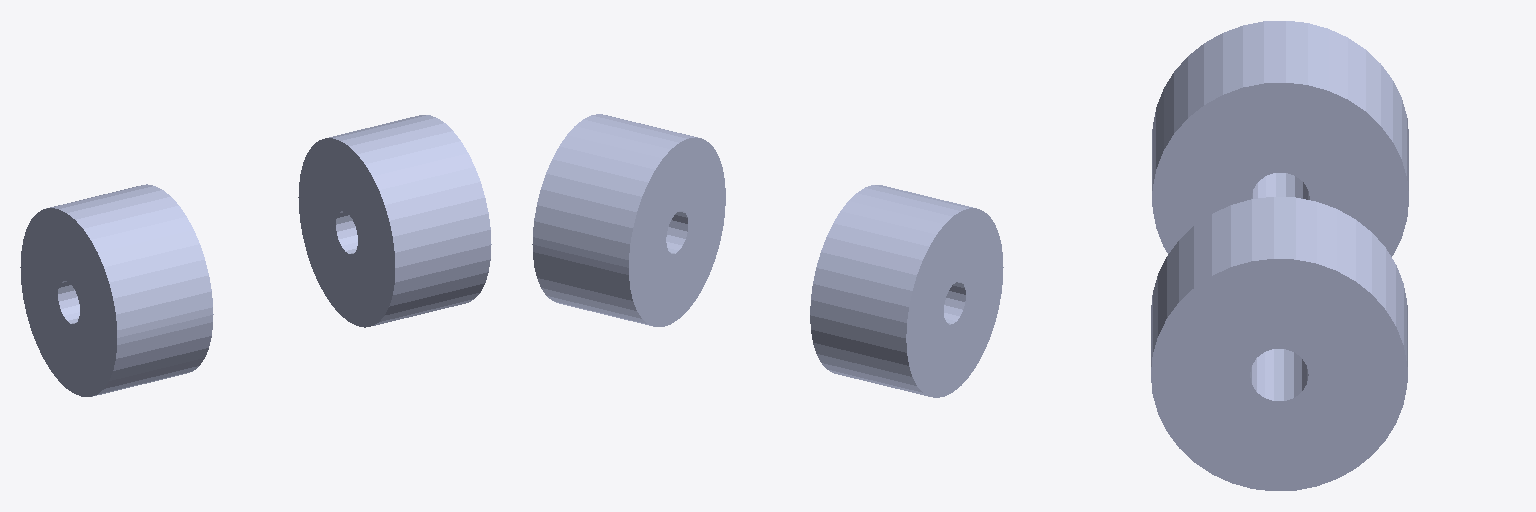
URDF robot description (medibot4):
<?xml version="1.0" encoding="utf-8"?>
<!-- This URDF was automatically created by SolidWorks to URDF Exporter! Originally created by [author] ([email redacted]) 
     Commit Version: 1.6.0-1-g15f4949  Build Version: 1.6.7594.29634
     For more information, please see http://wiki.ros.org/sw_urdf_exporter -->
<robot
  name="medibot4">
  <link
    name="base_link">
    <inertial>
      <origin
        xyz="-0.007005 0.5622 0.057324"
        rpy="0 0 0" />
      <mass
        value="16.587" />
      <inertia
        ixx="0.33575"
        ixy="-0.0016631"
        ixz="0.00045583"
        iyy="0.26398"
        iyz="0.0005298"
        izz="0.47721" />
    </inertial>
    <visual>
      <origin
        xyz="0 0 0"
        rpy="0 0 0" />
      <geometry>
        <mesh
          filename="package://medibot4/meshes/base_link.STL" />
      </geometry>
      <material
        name="">
        <color
          rgba="0.79216 0.81961 0.93333 1" />
      </material>
    </visual>
    <collision>
      <origin
        xyz="0 0 0"
        rpy="0 0 0" />
      <geometry>
        <mesh
          filename="package://medibot4/meshes/base_link.STL" />
      </geometry>
    </collision>
  </link>
  <link
    name="right_wheel">
    <inertial>
      <origin
        xyz="2.7756E-17 0 -0.1"
        rpy="0 0 0" />
      <mass
        value="18.237" />
      <inertia
        ixx="0.20771"
        ixy="8.4374E-34"
        ixz="-6.6177E-18"
        iyy="0.20771"
        iyz="3.0434E-34"
        izz="0.29384" />
    </inertial>
    <visual>
      <origin
        xyz="0 0 0"
        rpy="0 0 0" />
      <geometry>
        <mesh
          filename="package://medibot4/meshes/right_wheel.STL" />
      </geometry>
      <material
        name="">
        <color
          rgba="0.79216 0.81961 0.93333 1" />
      </material>
    </visual>
    <collision>
      <origin
        xyz="0 0 0"
        rpy="0 0 0" />
      <geometry>
        <mesh
          filename="package://medibot4/meshes/right_wheel.STL" />
      </geometry>
    </collision>
  </link>
  <joint
    name="right_wheel_joint"
    type="continuous">
    <origin
      xyz="-0.189 0.18156 -0.069152"
      rpy="-1.5708 0 -1.5708" />
    <parent
      link="base_link" />
    <child
      link="right_wheel" />
    <axis
      xyz="0 0 1" />
  </joint>
  <link
    name="left_wheel">
    <inertial>
      <origin
        xyz="-2.7756E-17 0 0.1"
        rpy="0 0 0" />
      <mass
        value="18.237" />
      <inertia
        ixx="0.20771"
        ixy="-3.3177E-35"
        ixz="-6.9791E-18"
        iyy="0.20771"
        iyz="-6.8474E-34"
        izz="0.29384" />
    </inertial>
    <visual>
      <origin
        xyz="0 0 0"
        rpy="0 0 0" />
      <geometry>
        <mesh
          filename="package://medibot4/meshes/left_wheel.STL" />
      </geometry>
      <material
        name="">
        <color
          rgba="0.79216 0.81961 0.93333 1" />
      </material>
    </visual>
    <collision>
      <origin
        xyz="0 0 0"
        rpy="0 0 0" />
      <geometry>
        <mesh
          filename="package://medibot4/meshes/left_wheel.STL" />
      </geometry>
    </collision>
  </link>
  <joint
    name="left_wheel_joint"
    type="continuous">
    <origin
      xyz="0.189 0.17969 -0.064239"
      rpy="1.5708 0 1.5708" />
    <parent
      link="base_link" />
    <child
      link="left_wheel" />
    <axis
      xyz="0 0 1" />
  </joint>
</robot>

--- Render facts (derived) ---
The picture shows the robot from 3 angles, left to right: view 1: azimuth 30°, elevation 25°; view 2: azimuth 150°, elevation 25°; view 3: azimuth 270°, elevation 25°; orthographic projection.
Model medibot4 with 3 links and 2 joints (2 continuous), rooted at base_link, posed all joints at 0.
Links seen in each view (by area): view 1: right_wheel, left_wheel; view 2: right_wheel, left_wheel; view 3: left_wheel, right_wheel.
Link boxes in pixels (<box>): right_wheel: <box>20,184,213,396</box>; left_wheel: <box>298,115,491,327</box>; right_wheel: <box>810,185,1003,397</box>; left_wheel: <box>532,114,725,326</box>; left_wheel: <box>1151,197,1407,490</box>; right_wheel: <box>1152,21,1408,256</box>.
Size in the robot's own frame: 0.778 by 0.3519 by 0.3546 metres.
2 mesh visuals loaded from 3 distinct referenced files (2 binary STL); not drawn: 1 (reference not matched to a file when rendering).